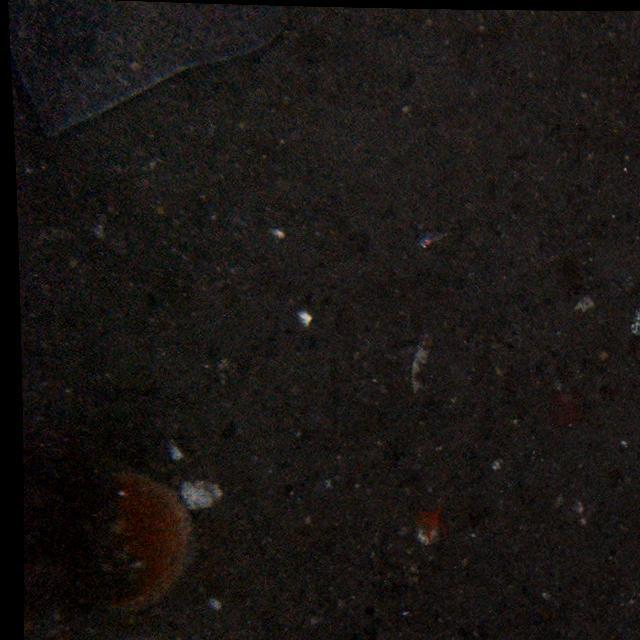skate: (4, 1, 290, 131)
